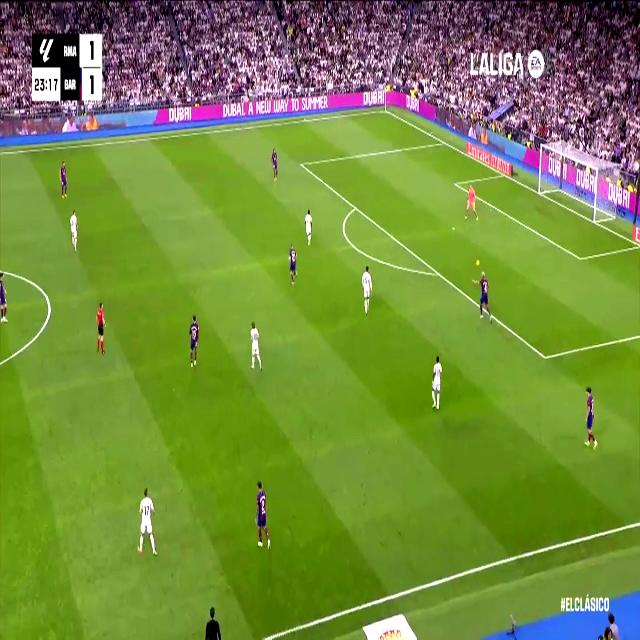bigarea_bottom_inner: (540, 346, 550, 368)
bigarea_top_inner: (299, 157, 304, 170)
bigarea_top_outter: (440, 135, 448, 148)
bottom_arc_area_intersection: (433, 264, 442, 282)
corner: (382, 105, 389, 115)
smallarea_top_inner: (452, 177, 458, 188)
top_arc_area_intersection: (352, 199, 359, 214)
